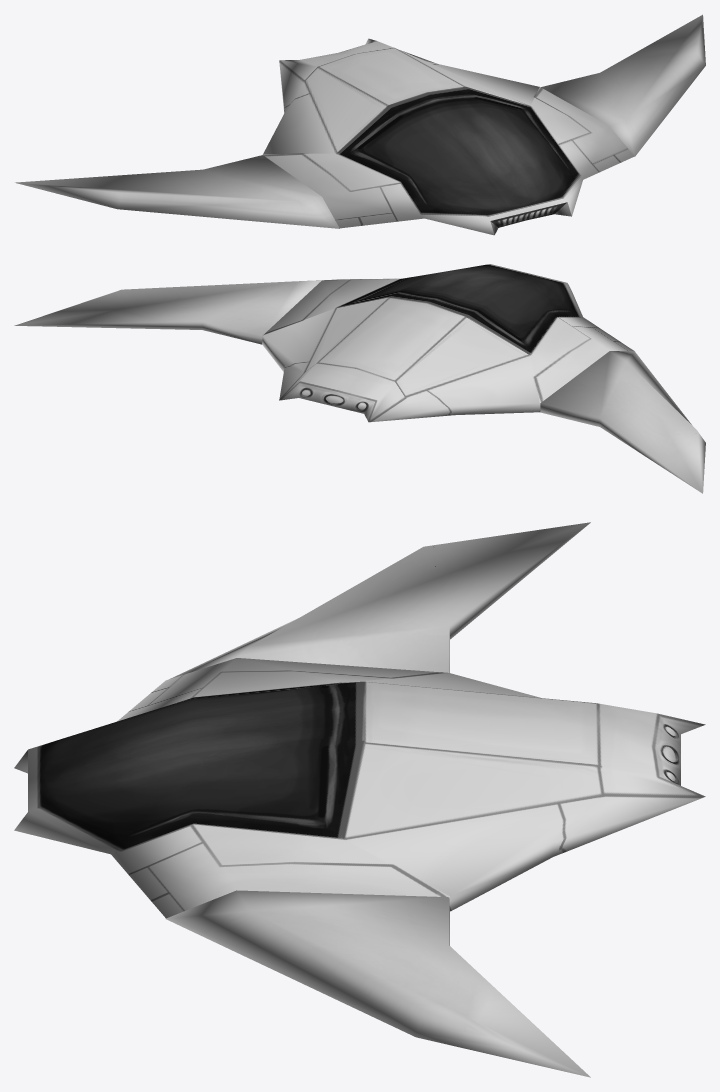
Rendered from manta_split_uv.fbx.
3 renders of one model, top to bottom at view 1: azimuth 30°, elevation 25°; view 2: azimuth 150°, elevation 25°; view 3: azimuth 270°, elevation 25°, orthographic. The views are drawn at different scales.
Parts seen in each view (by area): view 1: Fusilage, LeftWing, RightWing; view 2: Fusilage, LeftWing, RightWing; view 3: Fusilage, RightWing, LeftWing.
Part boxes in pixels (x1,y1,x2,y2): Fusilage: [262, 38, 634, 235]; LeftWing: [15, 155, 339, 228]; RightWing: [541, 14, 705, 156]; Fusilage: [262, 264, 634, 422]; LeftWing: [540, 351, 705, 493]; RightWing: [14, 280, 326, 344]; Fusilage: [14, 658, 705, 918]; RightWing: [165, 890, 590, 1077]; LeftWing: [169, 522, 590, 679].
Bounding box in the file's own units: 231 × 27.57 × 122.
